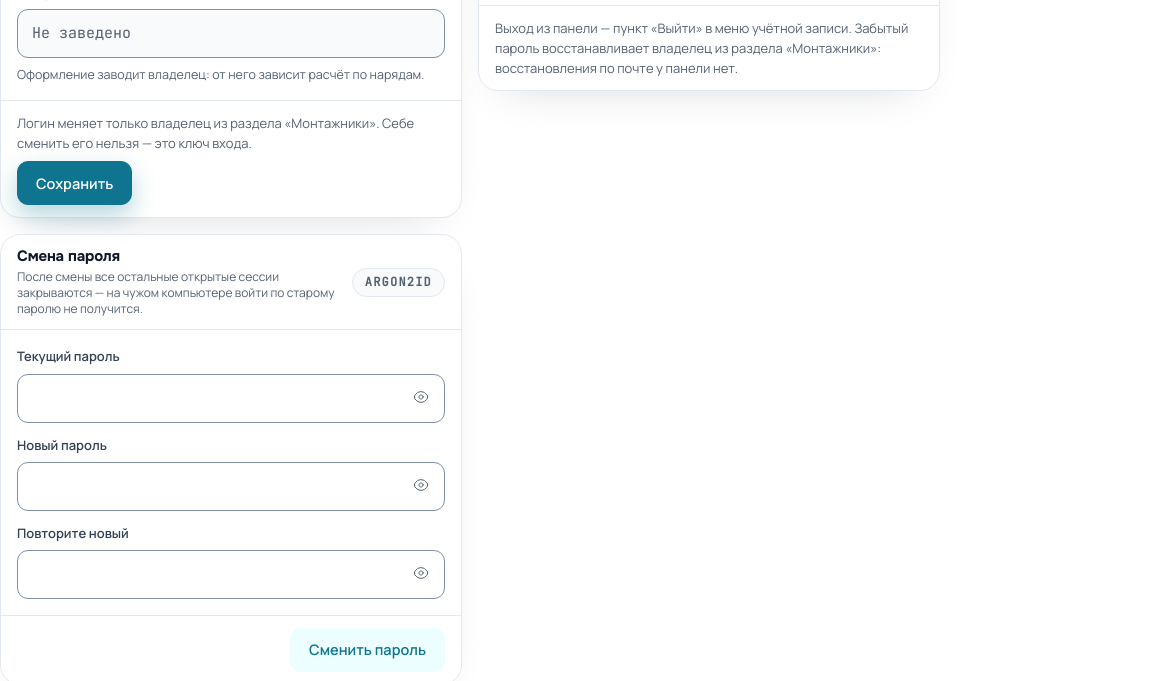
Test case: Профиль › неверный текущий пароль объясняется человеку
(page scrolled)
Step 1. Type "не-тот" into the password field labelled "Текущий пароль" → point(231, 398), box [17, 374, 445, 423]
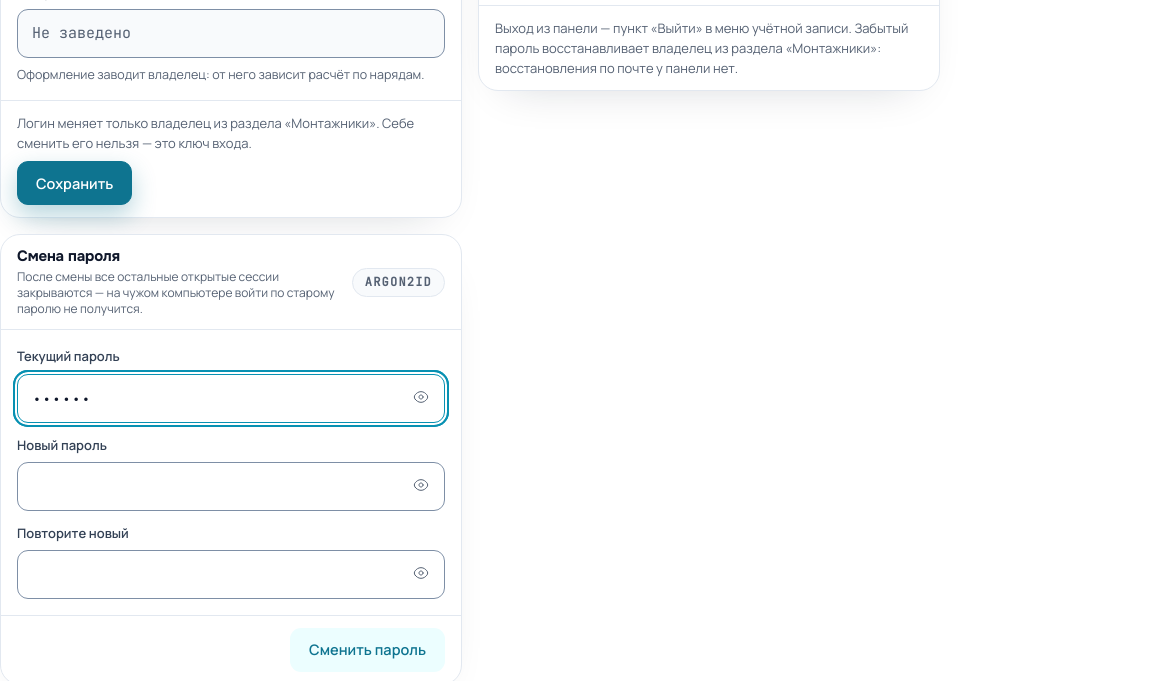
Step 2. Type "новый-пароль" into the password field labelled "Новый пароль" → point(231, 486), box [17, 462, 445, 511]
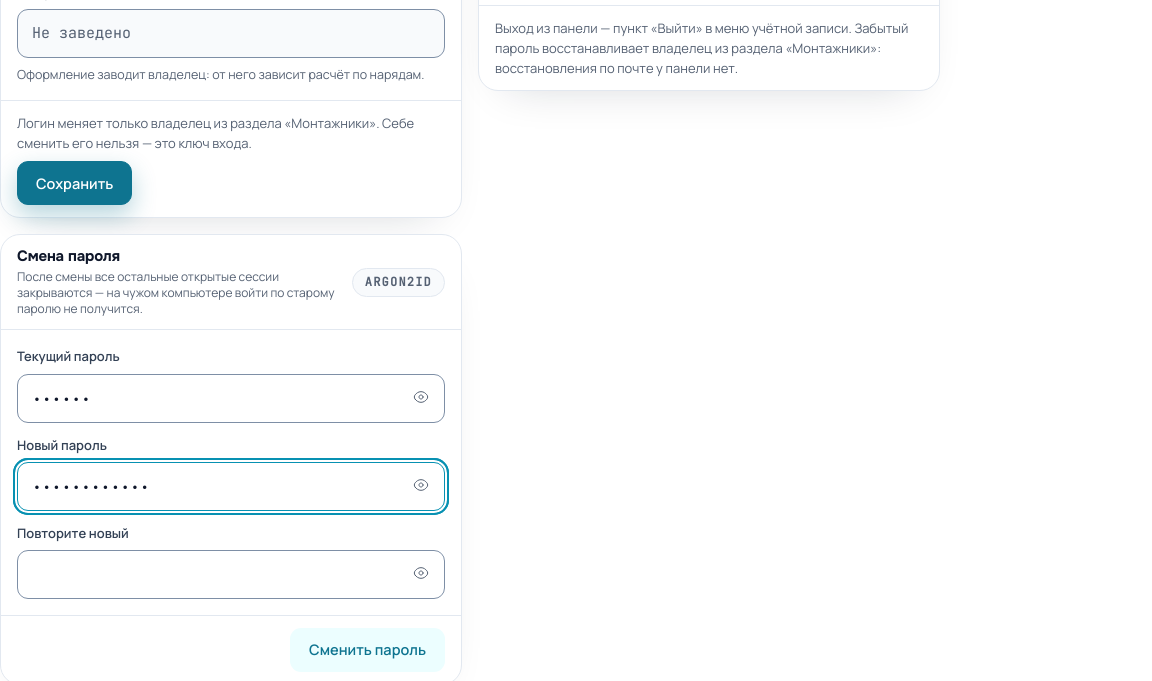
Step 3. Type "новый-пароль" into the password field labelled "Повторите новый" → point(231, 574), box [17, 550, 445, 599]
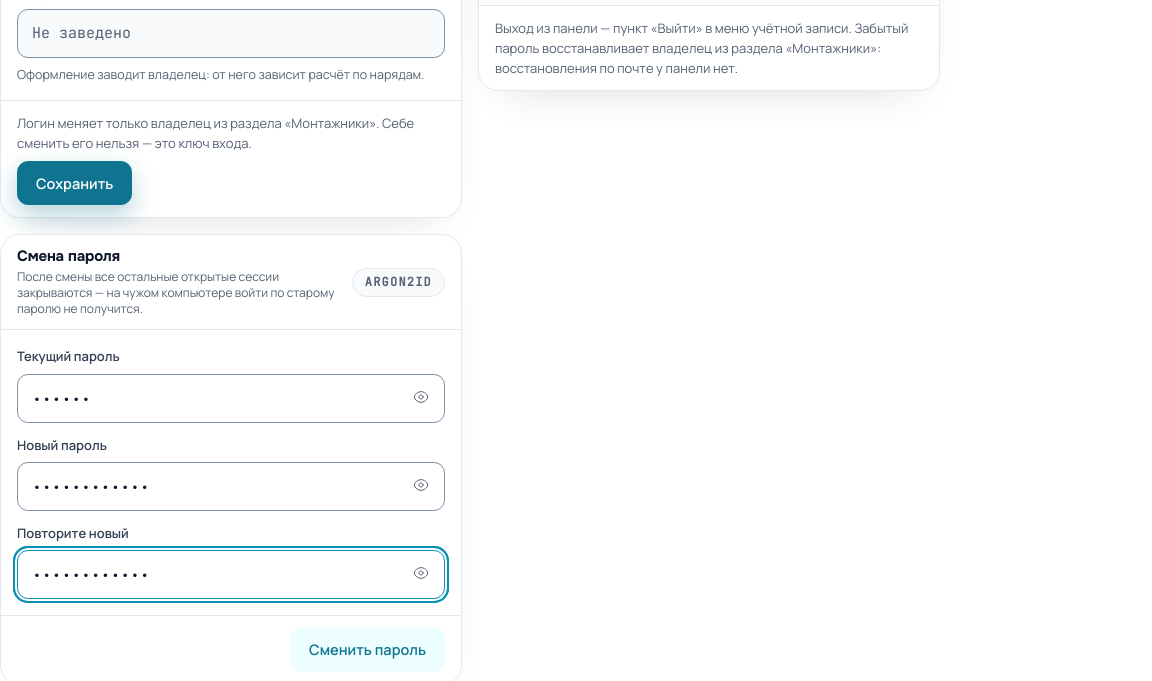
Step 4. Click the button "Сменить пароль" → point(368, 650), box [290, 628, 445, 672]
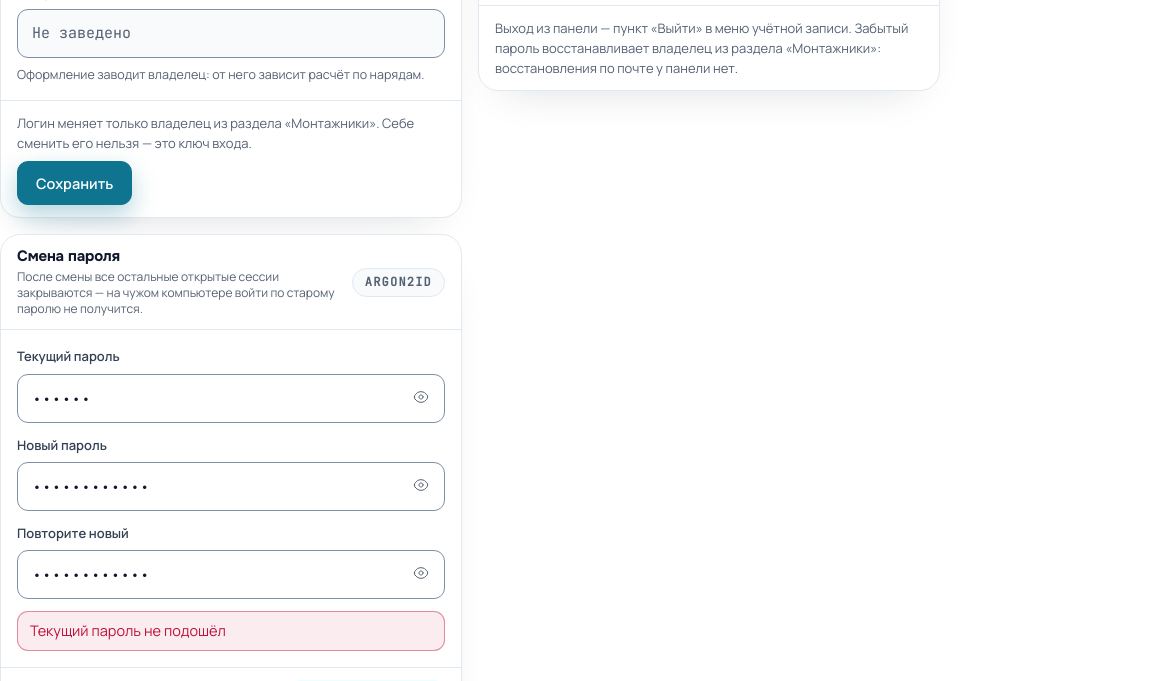
Expected: the message reads "Текущий пароль не подошёл", [30, 621, 226, 640]
